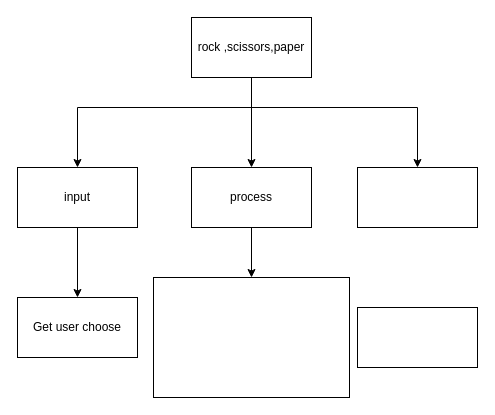
Image size: 495x415. Some labels were removed from this diagram. Here are the shapes that lost their labels. From the top down, the centre of each, then its label:
At (x=417, y=197): "output".
At (x=251, y=337): "rock * rock = tie paper*scissors= scissors win rock *paper= paper wins".
